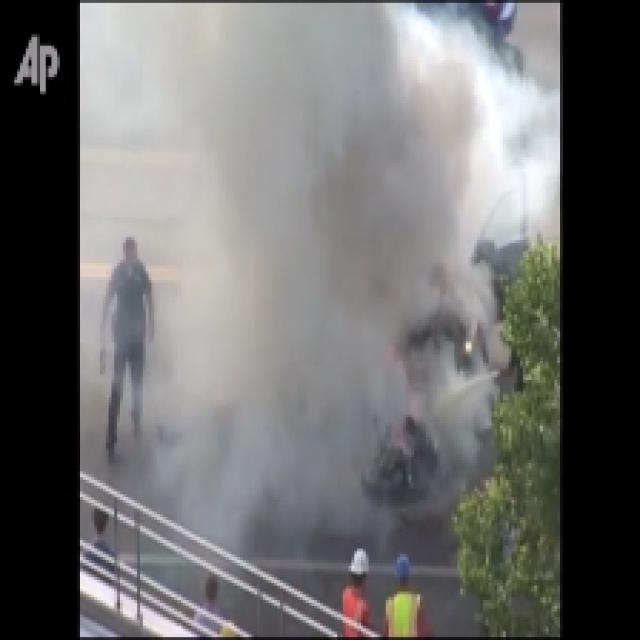fire: (164, 29, 452, 483)
